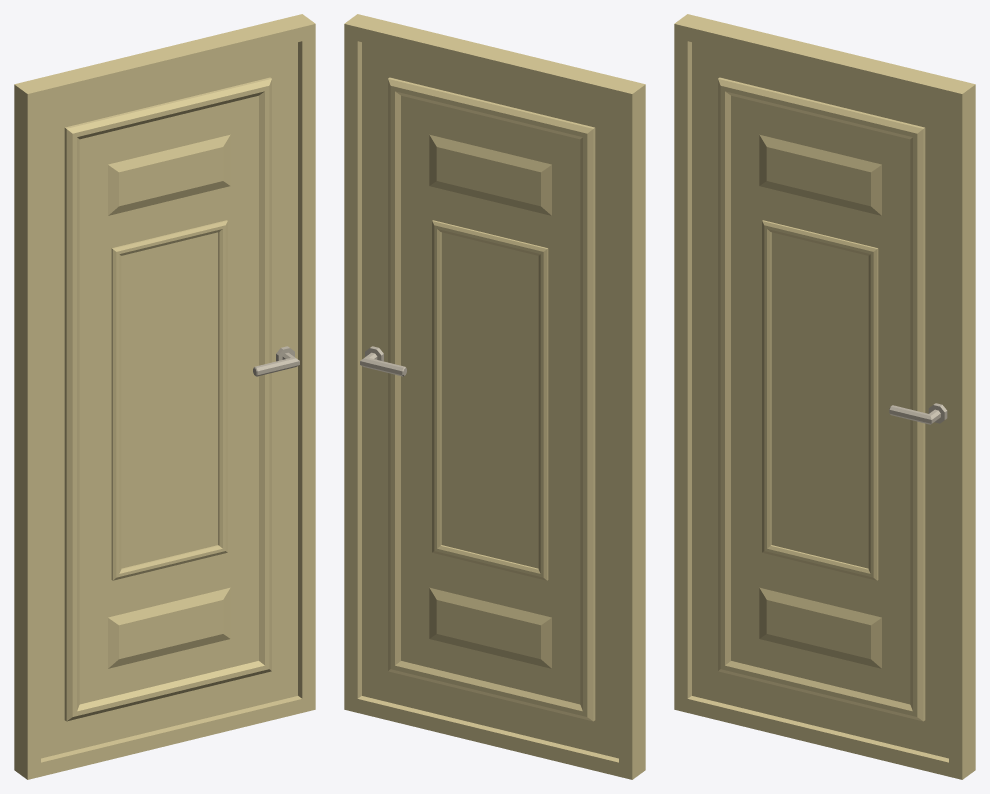
The model's file is Mesh_Door_C09.fbx.
3 views of the same model, side by side, from view 1: azimuth 30°, elevation 25°; view 2: azimuth 150°, elevation 25°; view 3: azimuth 330°, elevation 25° (orthographic).
Parts seen in each view (by area): view 1: Mesh_Door_C09; view 2: Mesh_Door_C09; view 3: Mesh_Door_C09.
Part boxes in pixels (box(x1,y1,x2,y2)): Mesh_Door_C09: box(14, 14, 315, 779); Mesh_Door_C09: box(344, 14, 645, 779); Mesh_Door_C09: box(674, 14, 975, 779).
Bounding box in the file's own units: 0.9 × 2.05 × 0.1524.
